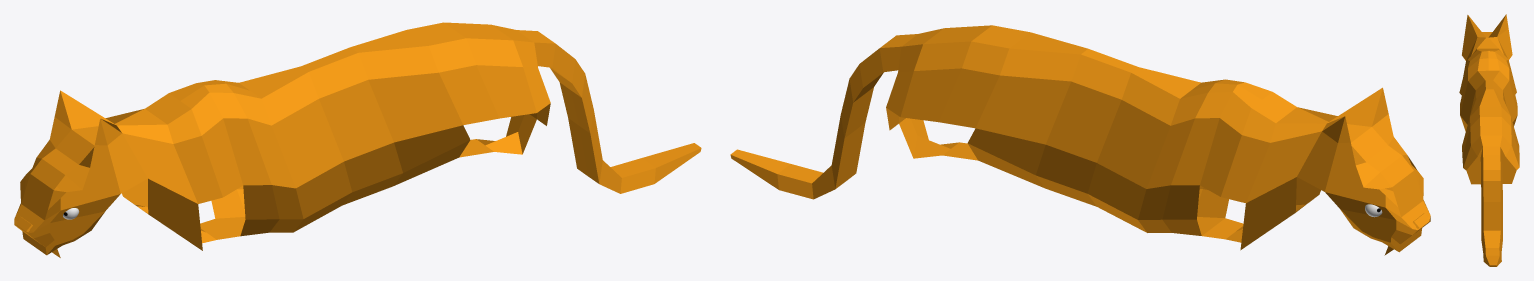
File: Tigre.obj
3 views of the same model, side by side, from view 1: azimuth 30°, elevation 25°; view 2: azimuth 150°, elevation 25°; view 3: azimuth 270°, elevation 25° (orthographic). The views are drawn at different scales.
Parts seen in each view (by area): view 1: Tigre:Mesh1polySurface8polySurface5polySurface2polySurface15poly; view 2: Tigre:Mesh1polySurface8polySurface5polySurface2polySurface15poly; view 3: Tigre:Mesh1polySurface8polySurface5polySurface2polySurface15poly.
Part boxes in pixels (x1,y1,x2,y2): Tigre:Mesh1polySurface8polySurface5polySurface2polySurface15poly: [14, 22, 701, 257]; Tigre:Mesh1polySurface8polySurface5polySurface2polySurface15poly: [730, 25, 1430, 255]; Tigre:Mesh1polySurface8polySurface5polySurface2polySurface15poly: [1459, 14, 1519, 266].
Size of the model in its own units: 3.01 by 0.9173 by 0.4594.
Materials: 3 (3 with a texture image).
